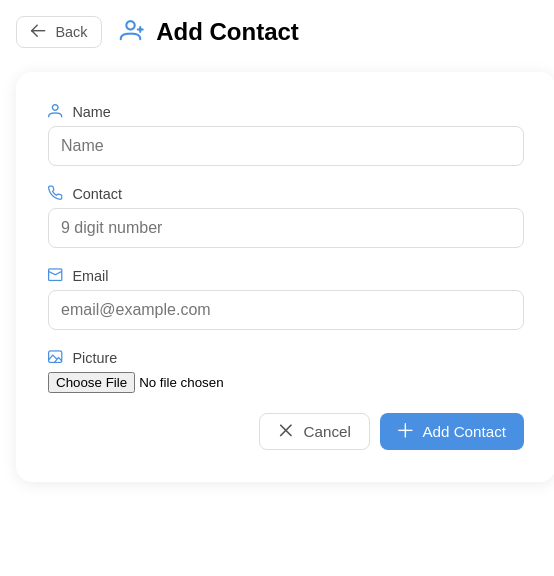
Test case: ContactForm validation › shows error when contact is not 9 digits
Step 1. Type "123" into the field with placeholder "9 digit number" → [286, 228], box [48, 208, 524, 248]
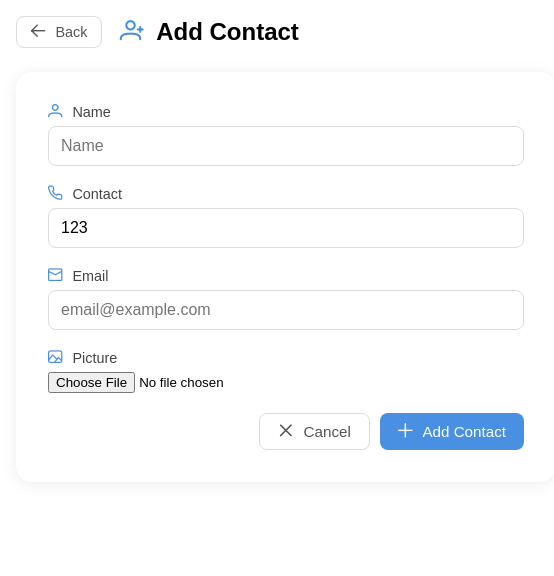
Step 2. Submit the form, box [48, 104, 524, 450]
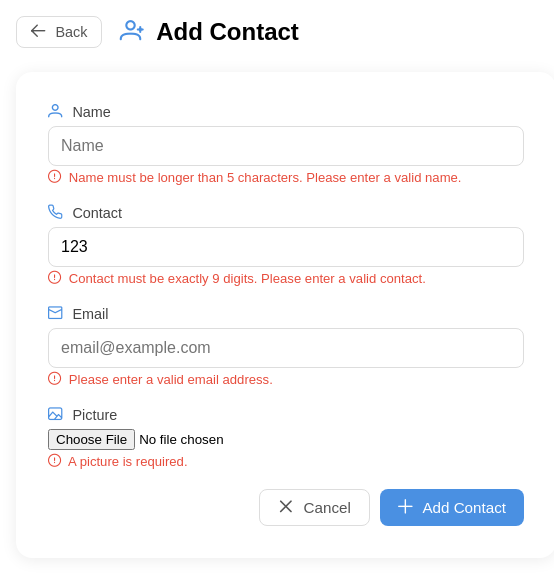
Expected: the text "Contact must be exactly 9 digits" is shown, [65, 271, 426, 286]
